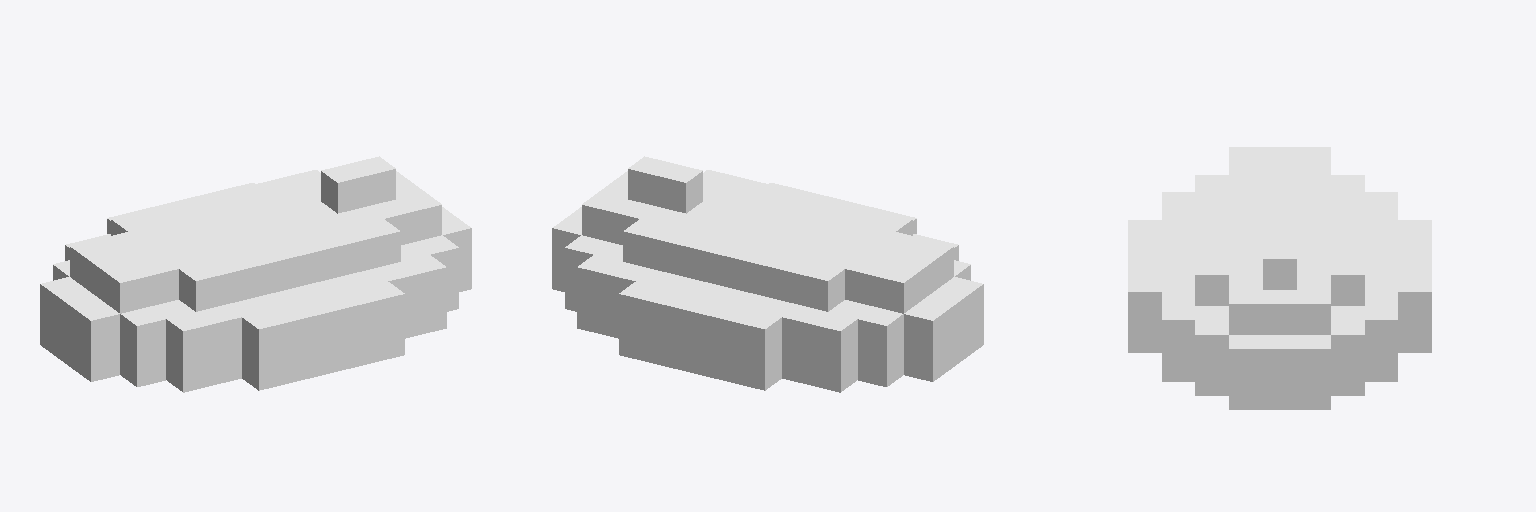
Rendered from burov-4.obj.
The picture shows the model from 3 angles: view 1: azimuth 30°, elevation 25°; view 2: azimuth 150°, elevation 25°; view 3: azimuth 270°, elevation 25°; orthographic projection.
Parts seen in each view (by area): view 1: object 1; view 2: object 1; view 3: object 1.
Part boxes in pixels (x1,y1,x2,y2): object 1: (40, 156, 471, 392); object 1: (552, 156, 983, 392); object 1: (1128, 147, 1431, 409).
Bounding box in the file's own units: 1.3 × 0.4 × 0.9.